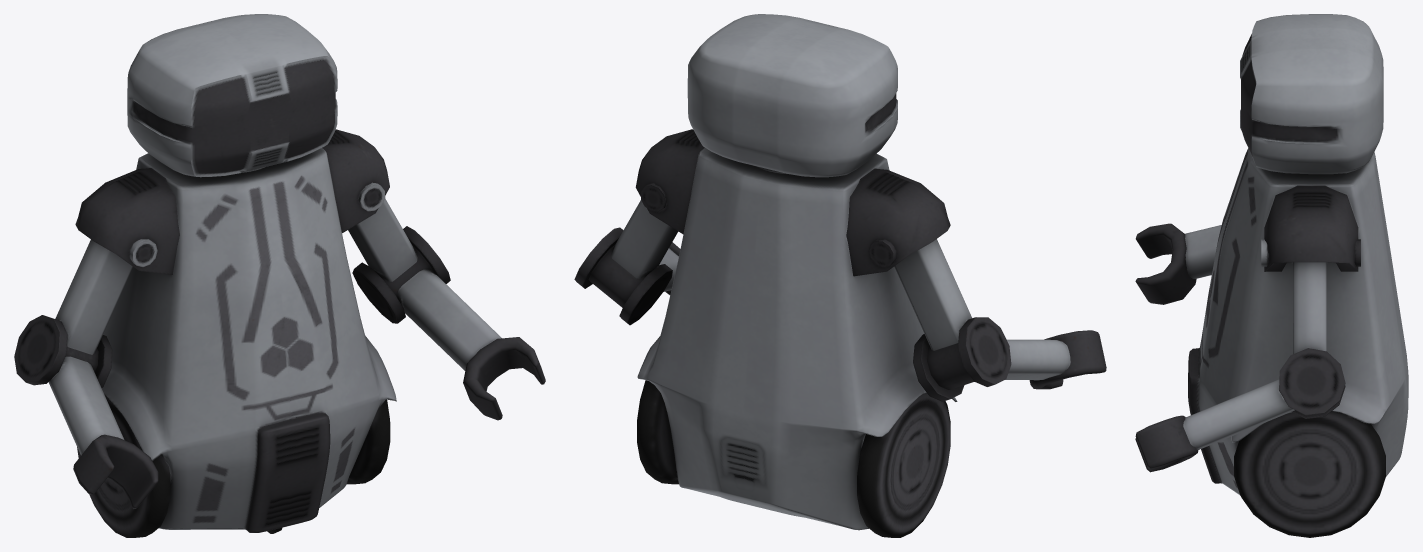
The model's file is Toy Robot 2.fbx.
The picture shows the model from 3 angles, left to right: view 1: azimuth 30°, elevation 25°; view 2: azimuth 150°, elevation 25°; view 3: azimuth 270°, elevation 25°; orthographic projection. The views are drawn at different scales.
Visible parts, largest first — view 1: Toy_Robot_2_Base, Toy_Robot_2_Head, Right_Upper_Arm, Left_Forearm, Right_Forearm, Left_Upper_Arm, Toy_Robot_2_Right_Wheel, Toy_Robot_2_Left_Wheel; view 2: Toy_Robot_2_Base, Toy_Robot_2_Head, Right_Upper_Arm, Toy_Robot_2_Right_Wheel, Left_Upper_Arm, Right_Forearm, Toy_Robot_2_Left_Wheel; view 3: Toy_Robot_2_Base, Toy_Robot_2_Head, Toy_Robot_2_Left_Wheel, Left_Upper_Arm, Left_Forearm, Right_Forearm.
Boxes of the visible parts, x1,y1,x2,y2 form: Toy_Robot_2_Base: [75, 129, 396, 532]; Toy_Robot_2_Head: [127, 14, 337, 177]; Right_Upper_Arm: [14, 239, 132, 387]; Left_Forearm: [397, 269, 545, 420]; Right_Forearm: [48, 356, 158, 508]; Left_Upper_Arm: [348, 198, 450, 323]; Toy_Robot_2_Right_Wheel: [77, 394, 170, 537]; Toy_Robot_2_Left_Wheel: [347, 399, 390, 484]; Toy_Robot_2_Base: [635, 129, 957, 530]; Toy_Robot_2_Head: [687, 14, 897, 177]; Right_Upper_Arm: [894, 239, 1011, 401]; Toy_Robot_2_Right_Wheel: [857, 393, 950, 537]; Left_Upper_Arm: [574, 200, 678, 325]; Right_Forearm: [1005, 330, 1106, 389]; Toy_Robot_2_Left_Wheel: [637, 380, 678, 484]; Toy_Robot_2_Base: [1188, 148, 1408, 494]; Toy_Robot_2_Head: [1240, 14, 1383, 174]; Toy_Robot_2_Left_Wheel: [1234, 411, 1385, 537]; Left_Upper_Arm: [1279, 262, 1345, 418]; Left_Forearm: [1135, 379, 1294, 472]; Right_Forearm: [1135, 223, 1221, 304].
Size of the model in its own units: 58.63 by 56.84 by 31.5.
1 material, 1 textured.
